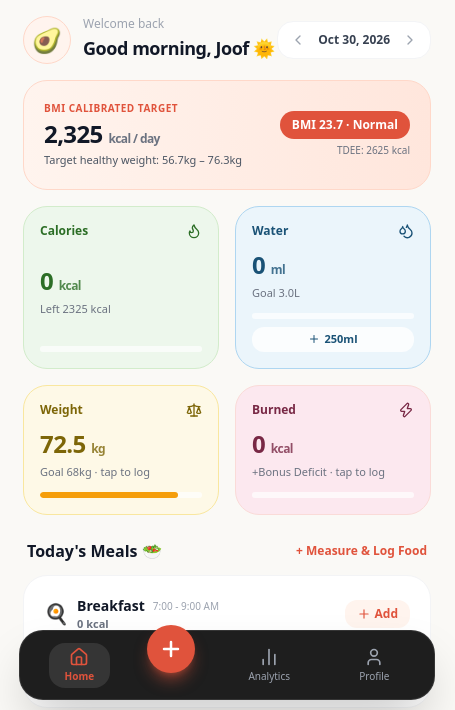
Test: Joof Personal App Full Integration › switches tabs between Dashboard, Analytics, and Profile Settings
# Switch to Analytics tab
Click the button "Analytics".
click(269, 665)  # box [232,642,306,688]
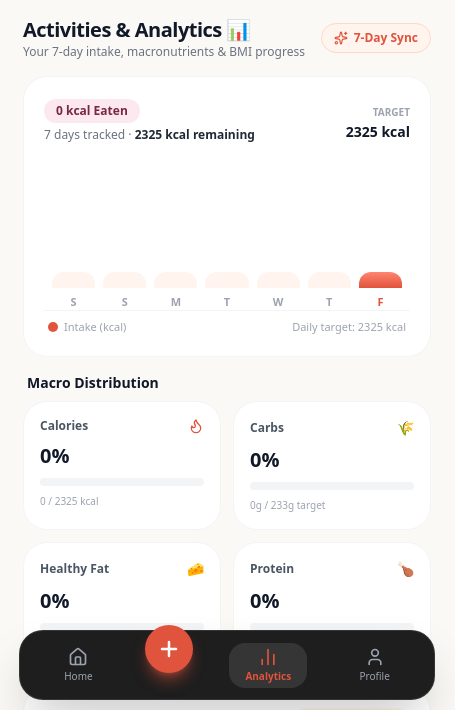
Check: the heading "Activities & Analytics 📊" is shown, box [23,16,251,43]
# Switch to Profile tab
Click the button "Profile".
click(375, 665)  # box [344,642,406,688]
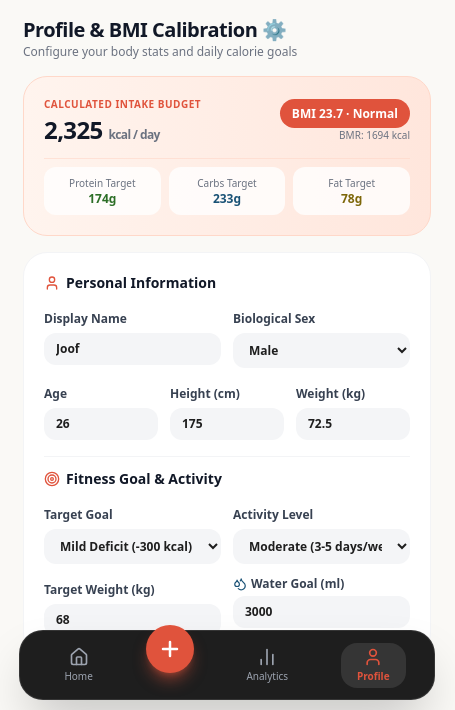
Check: the heading "Profile & BMI Calibration ⚙️" is shown, box [23,16,297,44]
# Switch back to Home / Dashboard
Click the button "Home".
click(79, 665)  # box [48,642,109,688]
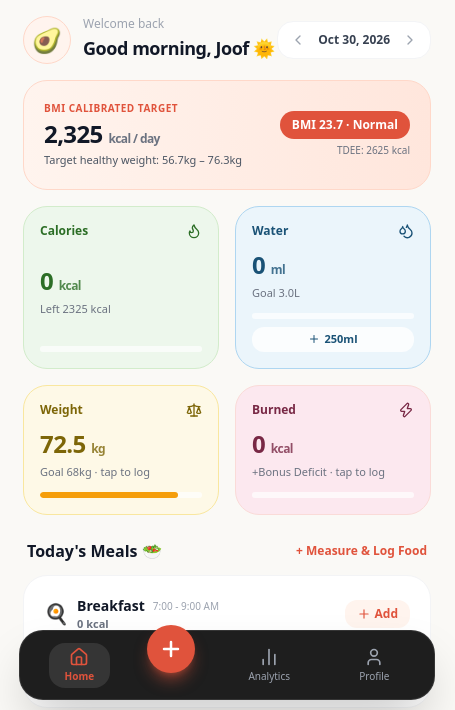
Check: the heading "Good morning, Joof 🌞" is shown, box [83,34,275,62]
